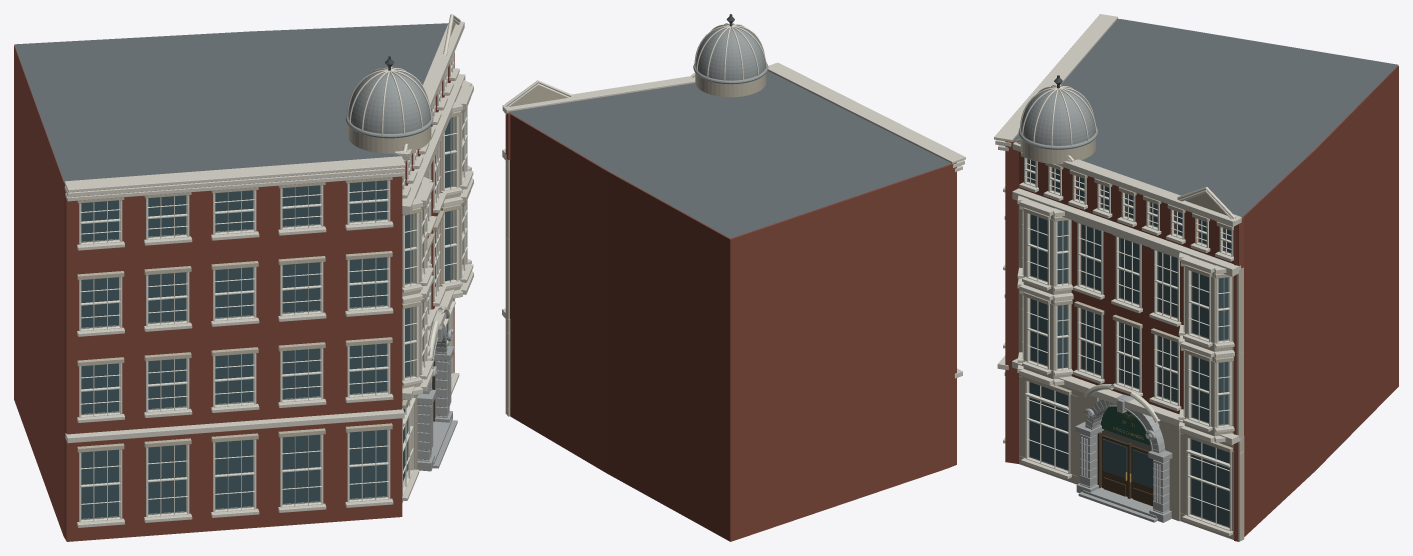
The model's file is kgs-exterior-7d82b4dcc22c.glb.
3 views of the same model, side by side, from view 1: azimuth 30°, elevation 25°; view 2: azimuth 150°, elevation 25°; view 3: azimuth 270°, elevation 25° (orthographic). The views are drawn at different scales.
Visible parts, largest first — view 1: KGS.001; view 2: KGS.001; view 3: KGS.001.
Part boxes in pixels (x1,y1,x2,y2): KGS.001: (14,14,473,541); KGS.001: (502,14,965,541); KGS.001: (994,14,1398,541).
Size of the model in its own units: 21.13 by 18.66 by 17.38.
